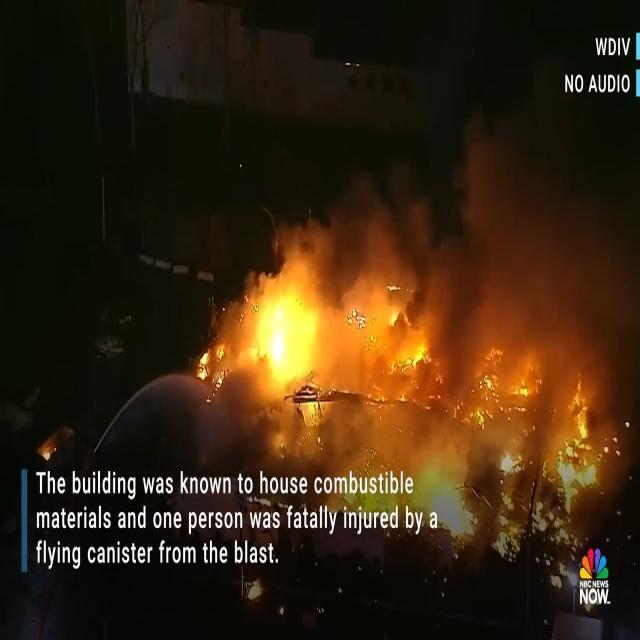fire: (473, 354, 592, 463), (342, 292, 434, 382), (273, 398, 392, 456), (416, 458, 492, 538), (258, 291, 323, 374)
